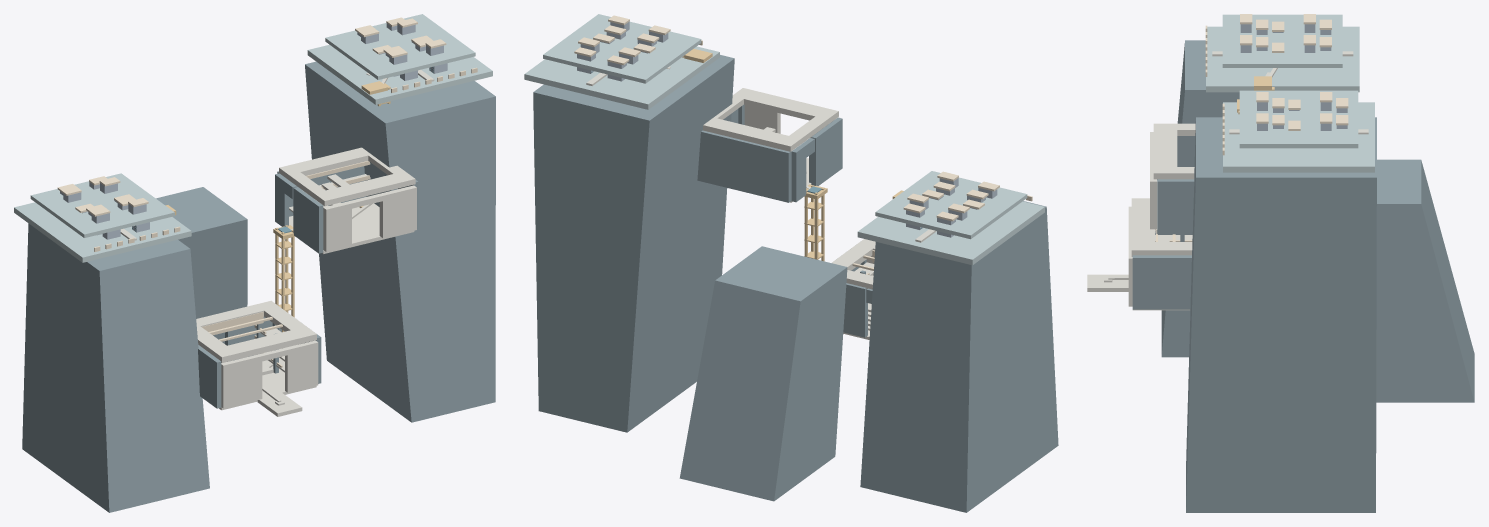
File: M3D1S_JUNCTION.glb
3 renders of one model, left to right at view 1: azimuth 30°, elevation 25°; view 2: azimuth 150°, elevation 25°; view 3: azimuth 270°, elevation 25°, orthographic. The views are drawn at different scales.
Parts seen in each view (by area): view 1: EAST_CITY_MASS, WEST_CITY_MASS, NORTH_DIAGONAL_CITY_SUPPORT, EAST_LIVING_TERRACE_LEVEL_2, WEST_LIVING_TERRACE_LEVEL_2, WEST_LIVING_TERRACE_MAIN_FLOOR, EAST_LIVING_TERRACE_MAIN_FLOOR, P1_SOUTH_ENTRY_L, P2_SOUTH_ENTRY_R, P1_ROOF_S, P2_WEST_WALL_SOUTH, P1_SOUTH_ENTRY_R (+11 smaller); view 2: EAST_CITY_MASS, WEST_CITY_MASS, NORTH_DIAGONAL_CITY_SUPPORT, P2_NORTH_WALL, EAST_LIVING_TERRACE_LEVEL_2, WEST_LIVING_TERRACE_MAIN_FLOOR, EAST_LIVING_TERRACE_MAIN_FLOOR, WEST_LIVING_TERRACE_LEVEL_2, P2_WEST_WALL_SOUTH, P2_ROOF_S, P2_ROOF_N, P1_NORTH_WALL_EAST (+3 smaller); view 3: EAST_CITY_MASS, NORTH_DIAGONAL_CITY_SUPPORT, EAST_LIVING_TERRACE_LEVEL_2, EAST_LIVING_TERRACE_MAIN_FLOOR, WEST_LIVING_TERRACE_LEVEL_2, WEST_LIVING_TERRACE_MAIN_FLOOR, WEST_CITY_MASS, P1_EAST_WALL_SOUTH, P2_EAST_WALL_SOUTH, P2_ROOF_S, P1_ROOF_S, P1_PUBLIC_APPROACH (+2 smaller).
Boxes of the visible parts, bbox=[...] form: EAST_CITY_MASS: bbox=[305, 61, 495, 422]; WEST_CITY_MASS: bbox=[22, 223, 209, 512]; NORTH_DIAGONAL_CITY_SUPPORT: bbox=[156, 187, 247, 343]; EAST_LIVING_TERRACE_LEVEL_2: bbox=[325, 14, 475, 79]; WEST_LIVING_TERRACE_LEVEL_2: bbox=[30, 173, 174, 237]; WEST_LIVING_TERRACE_MAIN_FLOOR: bbox=[14, 202, 191, 262]; EAST_LIVING_TERRACE_MAIN_FLOOR: bbox=[307, 44, 492, 104]; P1_SOUTH_ENTRY_L: bbox=[221, 354, 262, 408]; P2_SOUTH_ENTRY_R: bbox=[379, 185, 416, 238]; P1_ROOF_S: bbox=[211, 328, 316, 362]; P2_WEST_WALL_SOUTH: bbox=[293, 187, 323, 253]; P1_SOUTH_ENTRY_R: bbox=[285, 340, 318, 392]; EAST_CITY_MASS: bbox=[533, 55, 734, 432]; WEST_CITY_MASS: bbox=[860, 201, 1058, 512]; NORTH_DIAGONAL_CITY_SUPPORT: bbox=[679, 246, 847, 501]; P2_NORTH_WALL: bbox=[697, 130, 791, 202]; EAST_LIVING_TERRACE_LEVEL_2: bbox=[543, 14, 701, 83]; WEST_LIVING_TERRACE_MAIN_FLOOR: bbox=[857, 201, 1044, 265]; EAST_LIVING_TERRACE_MAIN_FLOOR: bbox=[524, 46, 719, 109]; WEST_LIVING_TERRACE_LEVEL_2: bbox=[875, 171, 1027, 239]; P2_WEST_WALL_SOUTH: bbox=[811, 117, 842, 185]; P2_ROOF_S: bbox=[732, 88, 838, 124]; P2_ROOF_N: bbox=[703, 117, 800, 151]; P1_NORTH_WALL_EAST: bbox=[843, 283, 867, 337]; EAST_CITY_MASS: bbox=[1186, 117, 1376, 512]; NORTH_DIAGONAL_CITY_SUPPORT: bbox=[1376, 159, 1474, 402]; EAST_LIVING_TERRACE_LEVEL_2: bbox=[1239, 90, 1358, 148]; EAST_LIVING_TERRACE_MAIN_FLOOR: bbox=[1223, 102, 1374, 172]; WEST_LIVING_TERRACE_LEVEL_2: bbox=[1222, 14, 1342, 67]; WEST_LIVING_TERRACE_MAIN_FLOOR: bbox=[1206, 26, 1359, 92]; WEST_CITY_MASS: bbox=[1161, 40, 1239, 357]; P1_EAST_WALL_SOUTH: bbox=[1132, 255, 1191, 309]; P2_EAST_WALL_SOUTH: bbox=[1157, 179, 1194, 234]; P2_ROOF_S: bbox=[1153, 123, 1177, 179]; P1_ROOF_S: bbox=[1131, 198, 1155, 256]; P1_PUBLIC_APPROACH: bbox=[1087, 274, 1128, 291].
Size of the model in its own units: 2990 by 2367 by 2140.
